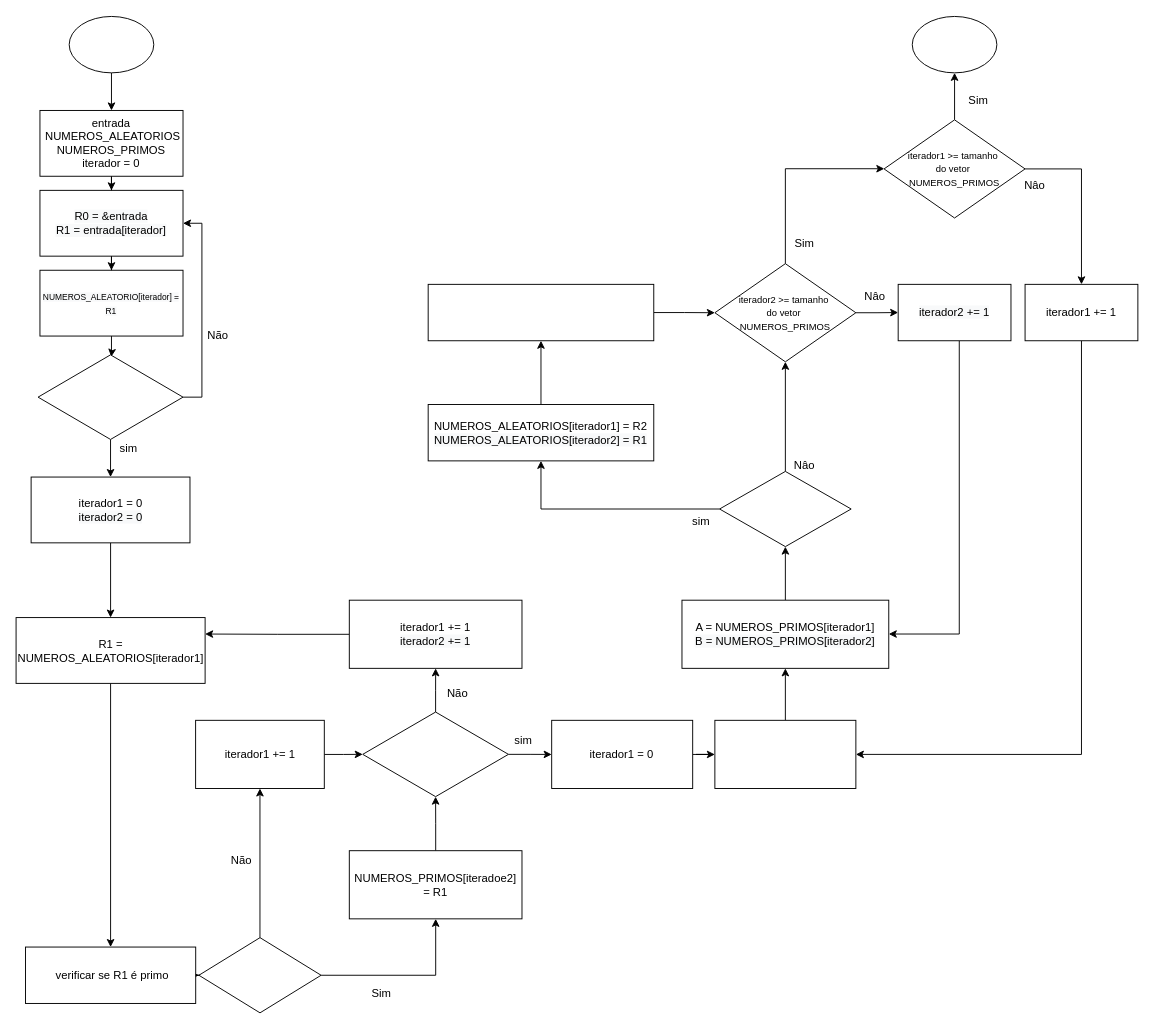
Image size: 1155x1029. Some labels were removed from this diagram. Each missing label, with the centre of its shape:
A < B: the point at 785,508
Fim: the point at 954,44
iterador >= tamanho do vetor: the point at 110,396
iterador1 >= tamanho do vetor?: the point at 435,754
iterador2 = iterador1: the point at 785,753
R1 = NUMEROS_ALEATORIOS[iterador1] R2 = NUMEROS_ALEATORIOS[iterador2]: the point at 540,312
R1 é primo?: the point at 259,975
Start: the point at 111,44
